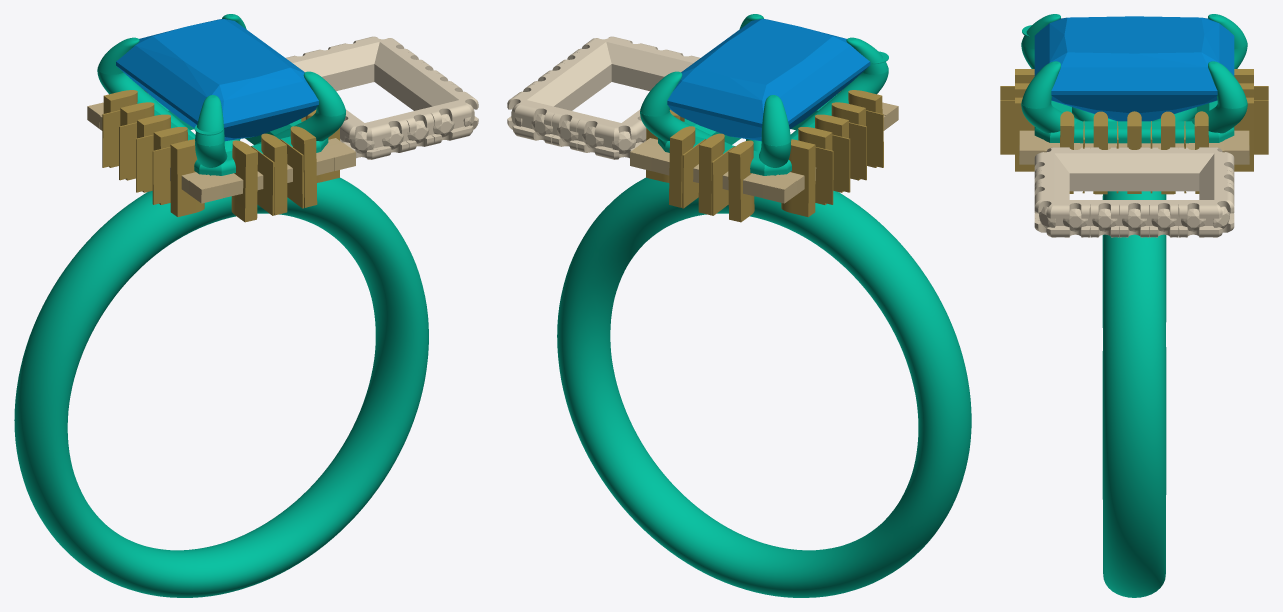
3 renders of one model, left to right at view 1: azimuth 30°, elevation 25°; view 2: azimuth 150°, elevation 25°; view 3: azimuth 270°, elevation 25°, orthographic.
Parts seen in each view (by area): view 1: VR446 25.7.25(front).3dm, Diamond_Radiant, Micro Pave Cut Channel Cutter (×14), Channel Cutter (×2); view 2: VR446 25.7.25(front).3dm, Diamond_Radiant, Micro Pave Cut Channel Cutter (×14), Channel Cutter (×2); view 3: VR446 25.7.25(front).3dm, Diamond_Radiant, Micro Pave Cut Channel Cutter (×9), Channel Cutter (×3), Diamond_Round (×5).
Boxes of the visible parts, bbox=[...] form: VR446 25.7.25(front).3dm: bbox=[14, 14, 478, 597]; Diamond_Radiant: bbox=[116, 19, 318, 141]; Micro Pave Cut Channel Cutter (×14): bbox=[102, 90, 317, 222]; Channel Cutter (×2): bbox=[87, 106, 355, 203]; VR446 25.7.25(front).3dm: bbox=[507, 14, 971, 597]; Diamond_Radiant: bbox=[667, 19, 870, 141]; Micro Pave Cut Channel Cutter (×14): bbox=[669, 90, 883, 222]; Channel Cutter (×2): bbox=[630, 107, 897, 203]; VR446 25.7.25(front).3dm: bbox=[1021, 14, 1247, 597]; Diamond_Radiant: bbox=[1034, 16, 1234, 121]; Micro Pave Cut Channel Cutter (×9): bbox=[1000, 97, 1268, 194]; Channel Cutter (×3): bbox=[1019, 130, 1249, 164]; Diamond_Round (×5): bbox=[1063, 208, 1205, 231].
Size of the model in its own units: 2.45 by 3.01 by 1.35.
